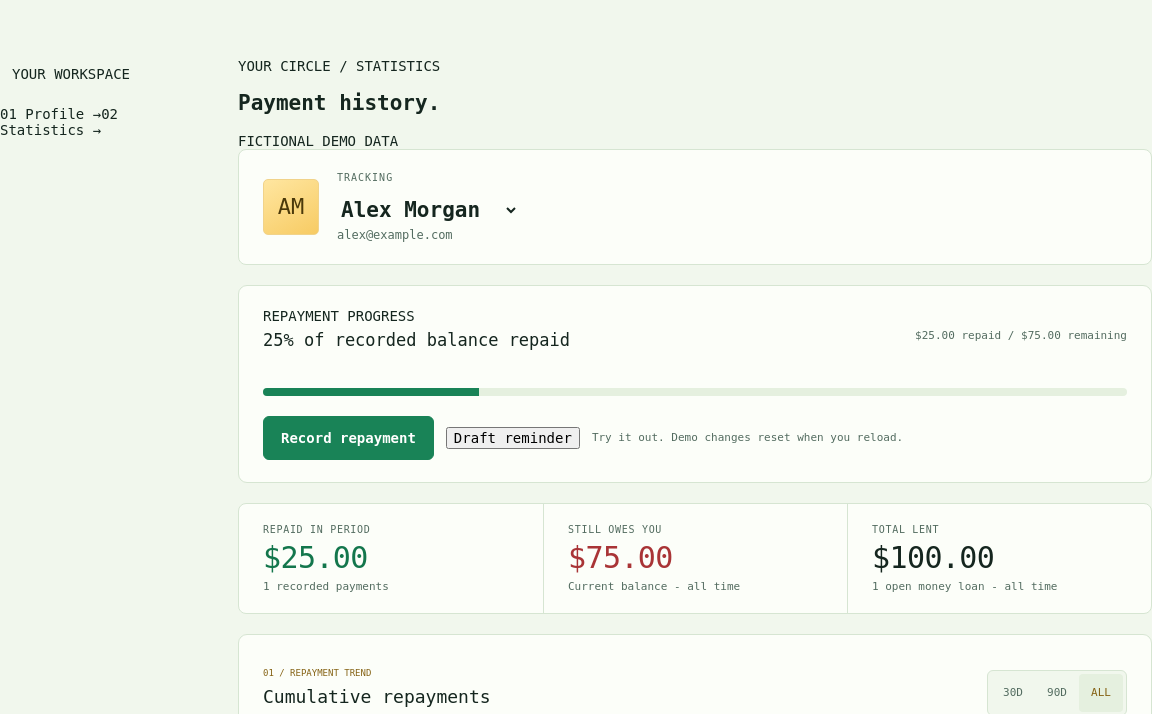
Scenario: interactive statistics › records a demo repayment and celebrates a settled balance
This screenshot has width=1152, height=714.
Click the button "Record repayment": (348, 438) x1=263 y1=416 x2=434 y2=460
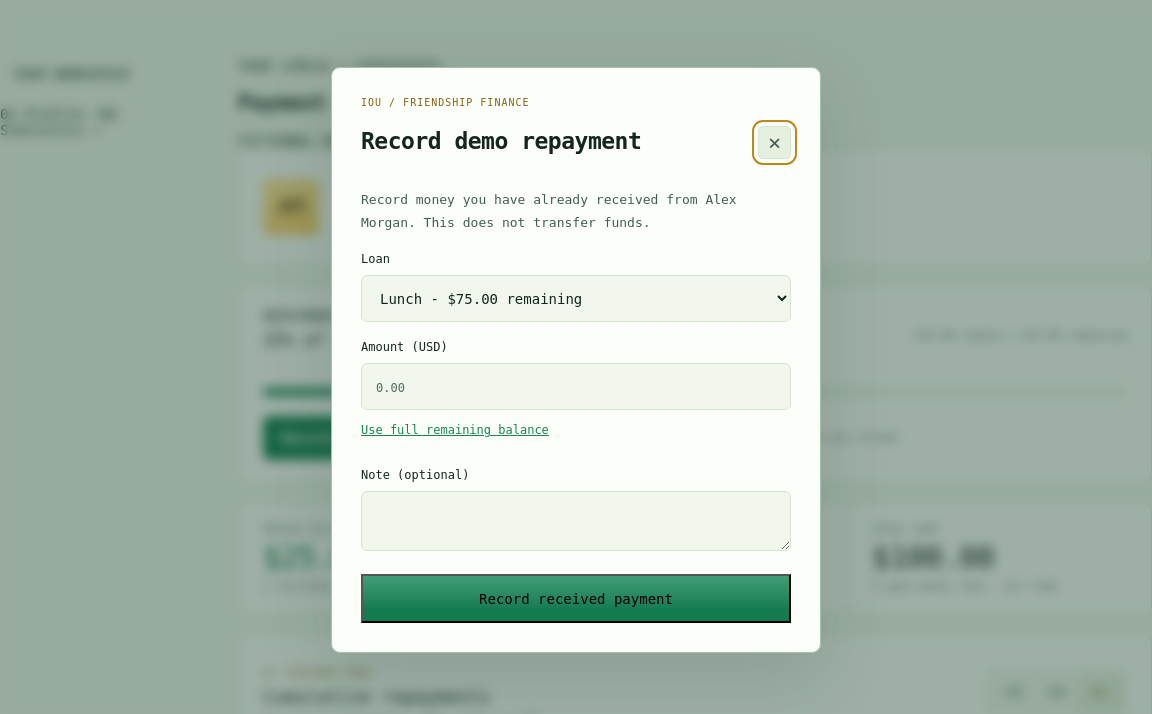
Click the button "Use full remaining balance": (455, 430) x1=361 y1=410 x2=549 y2=450
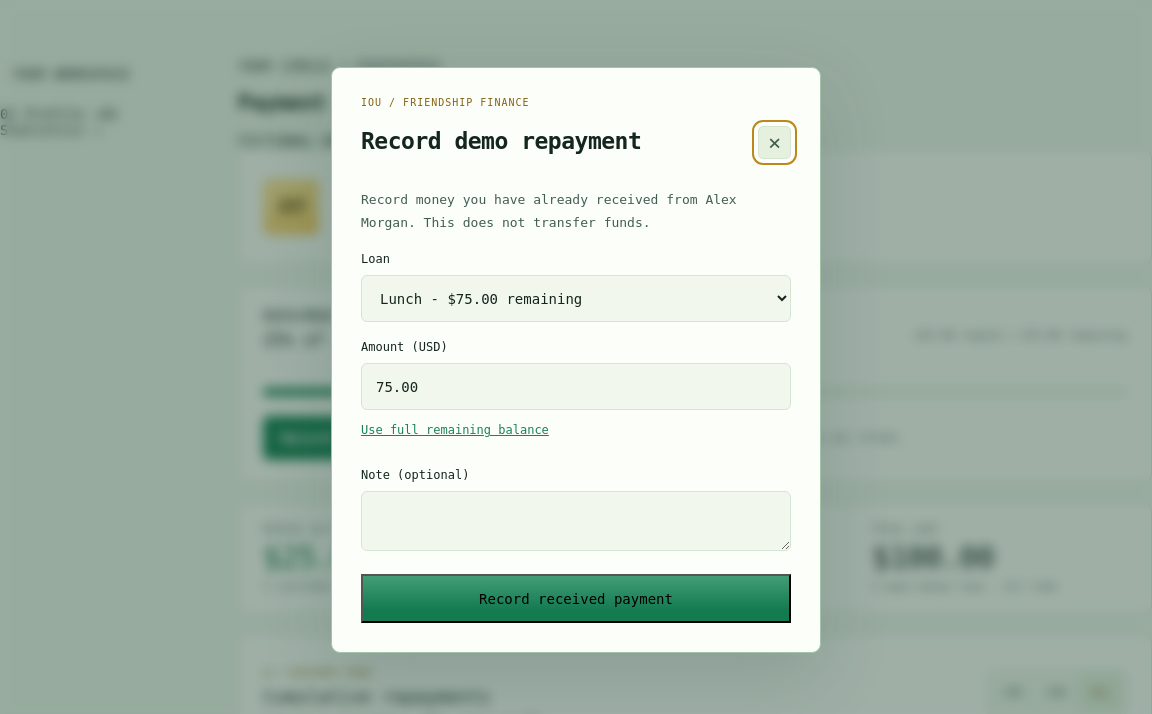
Click the button "Record received payment": (576, 599) x1=361 y1=574 x2=791 y2=623
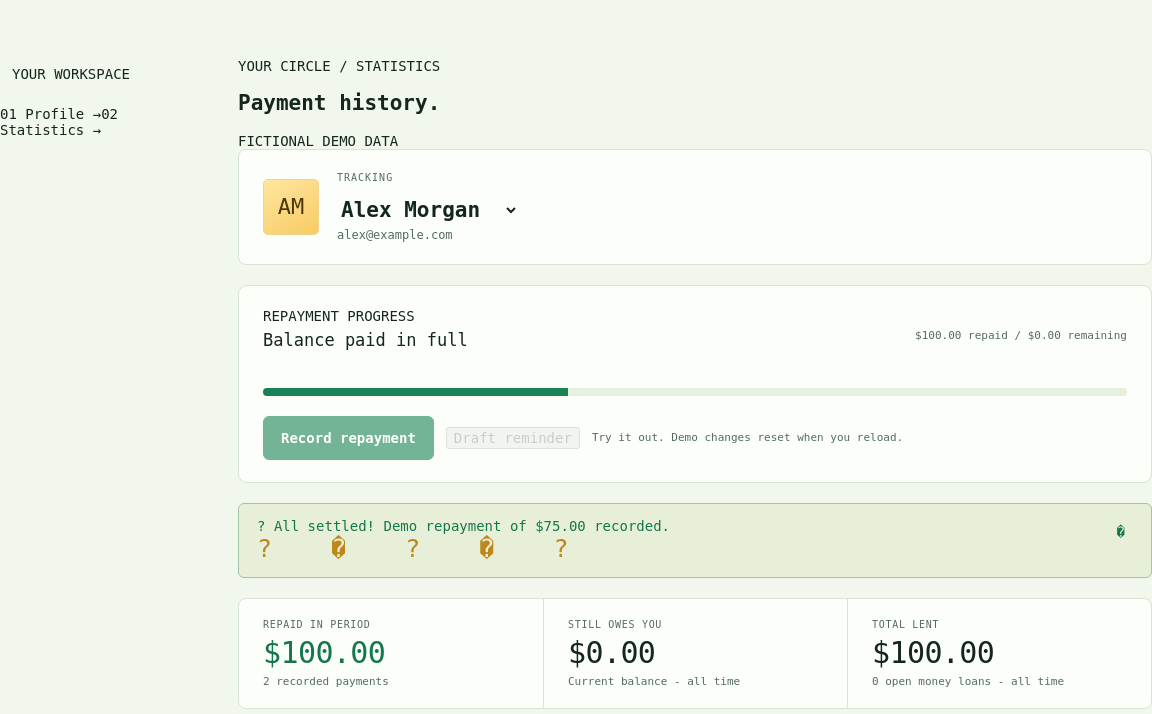
Result: the message shows "All settled!" at x1=274 y1=518 x2=384 y2=534
Result: the button "Record repayment" is disabled at x1=263 y1=416 x2=434 y2=460
